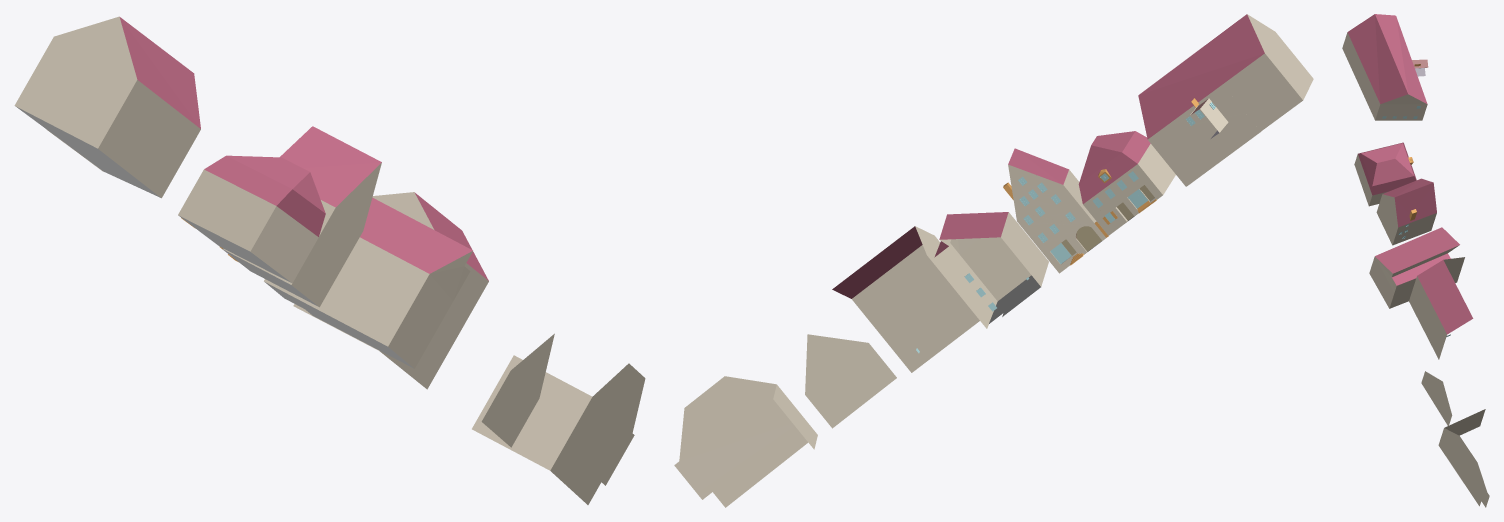
The picture shows the model from 3 angles, left to right: view 1: azimuth 30°, elevation 25°; view 2: azimuth 150°, elevation 25°; view 3: azimuth 270°, elevation 25°; orthographic projection. The views are drawn at different scales.
Parts seen in each view (by area): view 1: mesh; view 2: mesh; view 3: mesh.
Boxes of the visible parts, x1=… form: mesh: x1=14, y1=16, x2=645, y2=504; mesh: x1=674, y1=14, x2=1313, y2=507; mesh: x1=1342, y1=14, x2=1489, y2=507.
Bounding box in the file's own units: 92.79 × 87 × 32.97.
